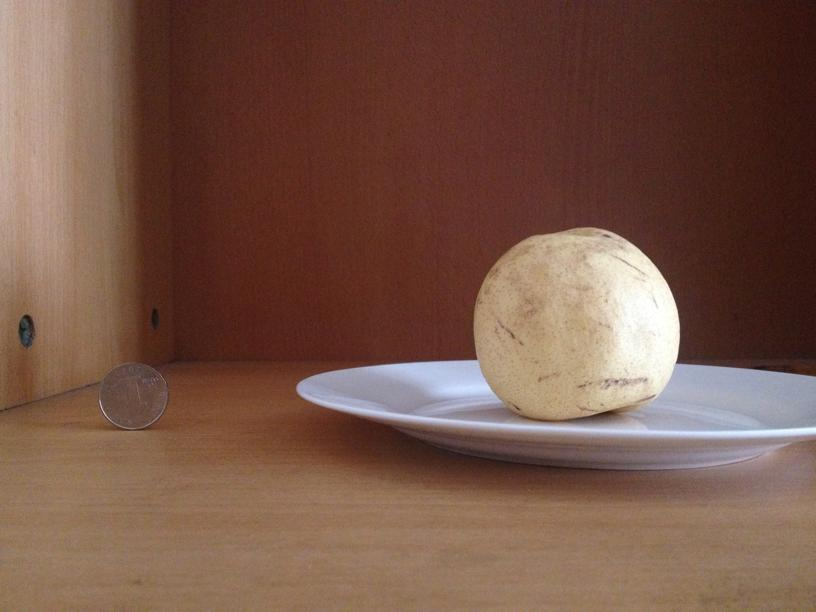coin: (98, 363, 167, 428)
pear: (477, 222, 681, 421)
